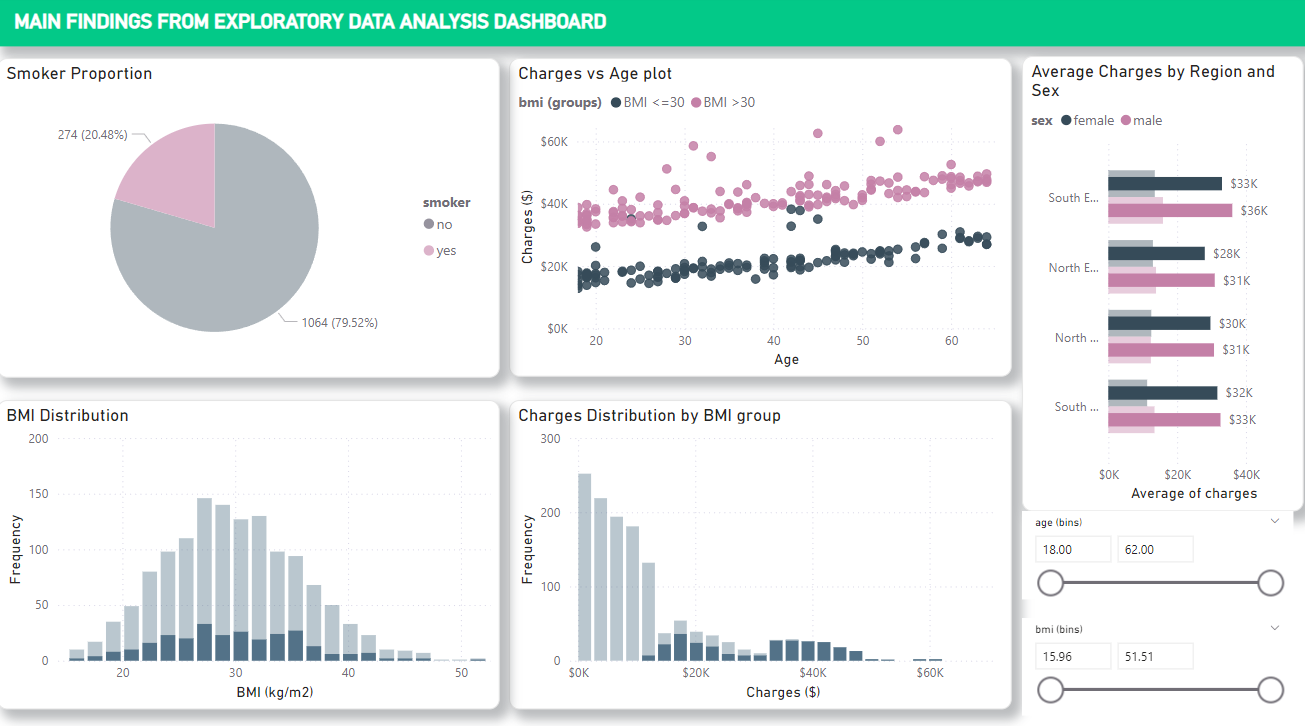

What the dashboard file says about the page in this screenshot:
{"tool":"powerbi","page":{"name":"Page 1","canvas":[1280,720],"ordinal":0},"visuals":[{"type":"shape","box":[0,0,1280,49],"z":0},{"type":"scatterChart","title":"Charges vs Age plot","fields":{"X":["insurance.age"],"Y":["insurance.charges"],"Series":["insurance.bmi (groups)"]},"box":[498,60.3,489.2,310.3],"z":1000},{"type":"clusteredColumnChart","title":"Charges Distribution by BMI group","fields":{"Y":["CountNonNull(insurance.charges)"],"Category":["insurance.charges (bins)"]},"box":[498,392.9,489.2,300.5],"z":2000},{"type":"textbox","box":[11.7,7.8,788.8,33.1],"z":3000},{"type":"clusteredColumnChart","title":"BMI Distribution","fields":{"Y":["CountNonNull(insurance.bmi)"],"Category":["insurance.bmi (bins)"]},"box":[0,392.9,489.2,300.5],"z":4000},{"type":"pieChart","title":"Smoker Proportion","fields":{"Y":["CountNonNull(insurance.charges)"],"Category":["insurance.smoker"]},"box":[0,60.3,489.2,311.2],"z":5000},{"type":"clusteredBarChart","title":"Average Charges by Region and Sex","fields":{"Y":["Avg(insurance.charges)"],"Category":["insurance.Region"],"Series":["insurance.sex"]},"box":[997,58.4,274.3,442.6],"z":6000},{"type":"slicer","fields":{"Values":["insurance.age (bins)"]},"box":[997,500.9,263.6,85.6],"z":6001},{"type":"slicer","fields":{"Values":["insurance.bmi (bins)"]},"box":[997,605,263.6,95.3],"z":6002}]}

Visuals, with their boxes in screenshot pixels (x1, y1, x2, y2), scaled from the page's 1280x720 canvas onto the 1305x726 screenshot:
shape: (x1=0, y1=0, x2=1304, y2=49)
"Charges vs Age plot" scatterChart: (x1=508, y1=61, x2=1006, y2=374)
"Charges Distribution by BMI group" clusteredColumnChart: (x1=508, y1=396, x2=1006, y2=699)
textbox: (x1=12, y1=8, x2=816, y2=41)
"BMI Distribution" clusteredColumnChart: (x1=0, y1=396, x2=499, y2=699)
"Smoker Proportion" pieChart: (x1=0, y1=61, x2=499, y2=375)
"Average Charges by Region and Sex" clusteredBarChart: (x1=1016, y1=59, x2=1296, y2=505)
slicer - insurance.age (bins): (x1=1016, y1=505, x2=1285, y2=591)
slicer - insurance.bmi (bins): (x1=1016, y1=610, x2=1285, y2=706)
